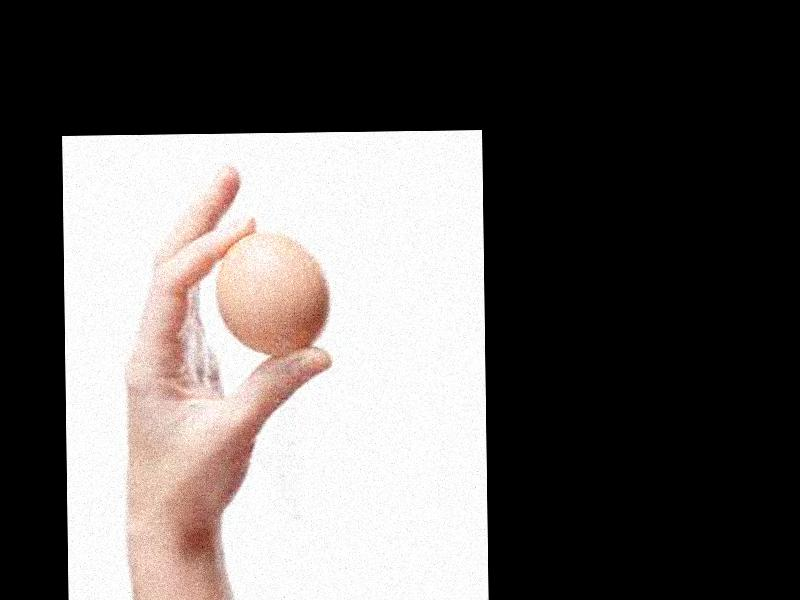Eggs: (217, 232, 329, 358)
